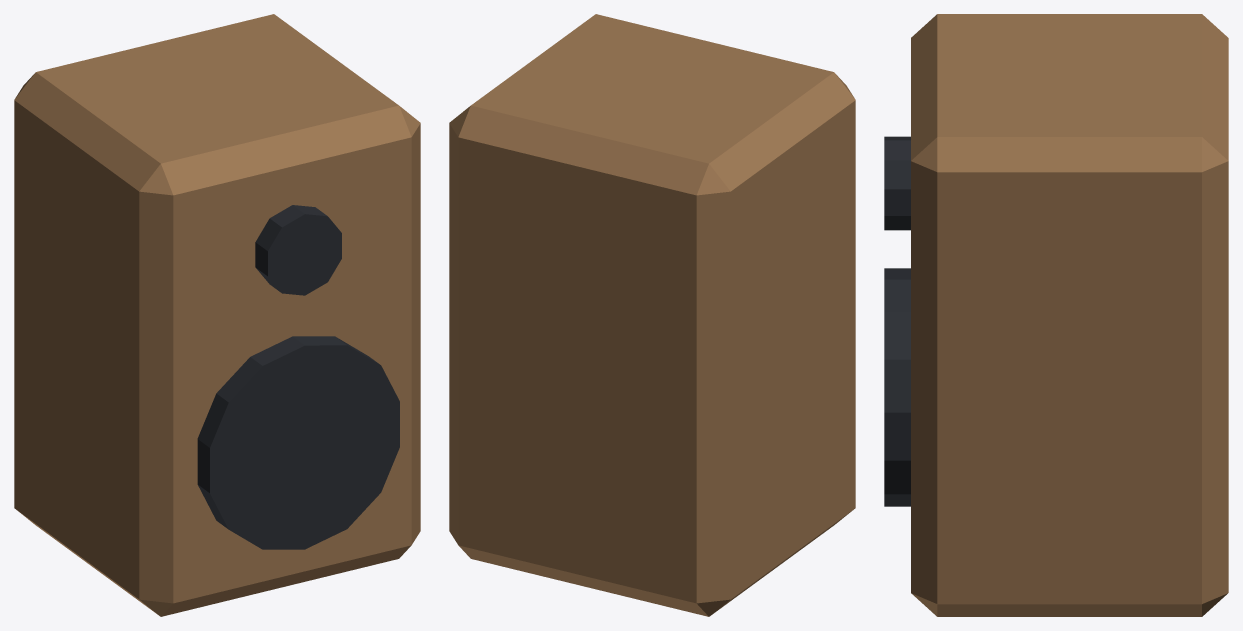
Rendered from prop_headphones_p1.glb.
The picture shows the model from 3 angles, left to right: view 1: azimuth 30°, elevation 25°; view 2: azimuth 150°, elevation 25°; view 3: azimuth 270°, elevation 25°; orthographic projection. The views are drawn at different scales.
Visible parts, largest first — view 1: prop_headphones_p1_mesh; view 2: prop_headphones_p1_mesh; view 3: prop_headphones_p1_mesh.
Part boxes in pixels (bbox=[...]): prop_headphones_p1_mesh: bbox=[14, 14, 420, 616]; prop_headphones_p1_mesh: bbox=[449, 14, 855, 616]; prop_headphones_p1_mesh: bbox=[884, 14, 1228, 616].
Bounding box in the file's own units: 0.13 × 0.2 × 0.13.
